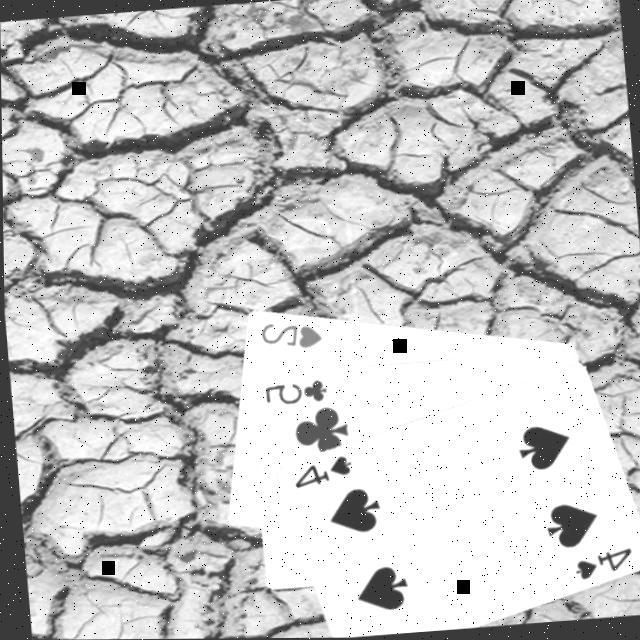2H: (255, 317, 325, 356)
4S: (287, 453, 354, 493), (568, 545, 635, 585)
5C: (258, 377, 328, 410)
